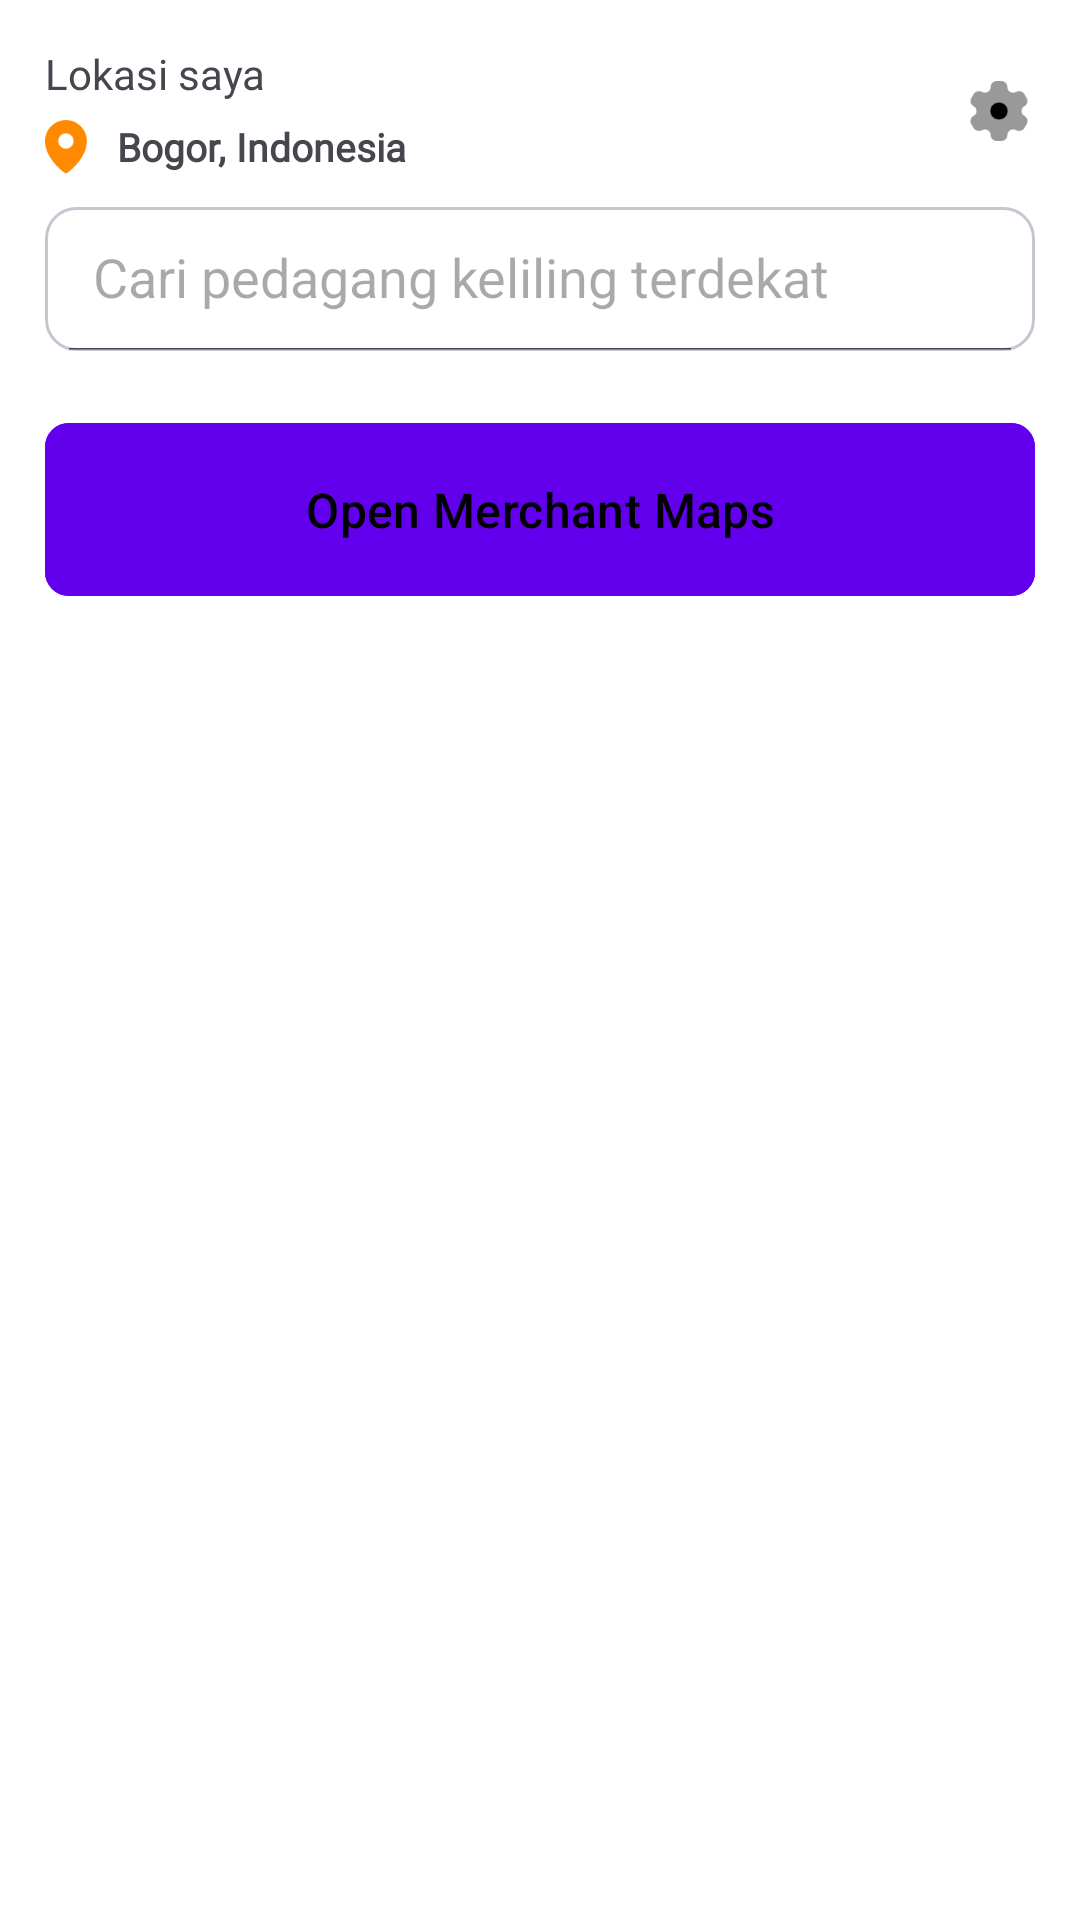

Screen size 1080w x 1920h. Icon name, then its box in pixels as (x1, y1, x2, y2):
location: (45, 120, 87, 174)
setting: (970, 81, 1028, 141)
